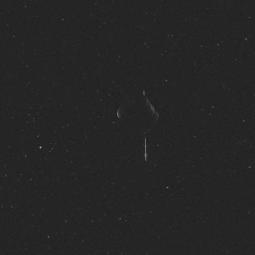double_start: (112, 88, 171, 144)
